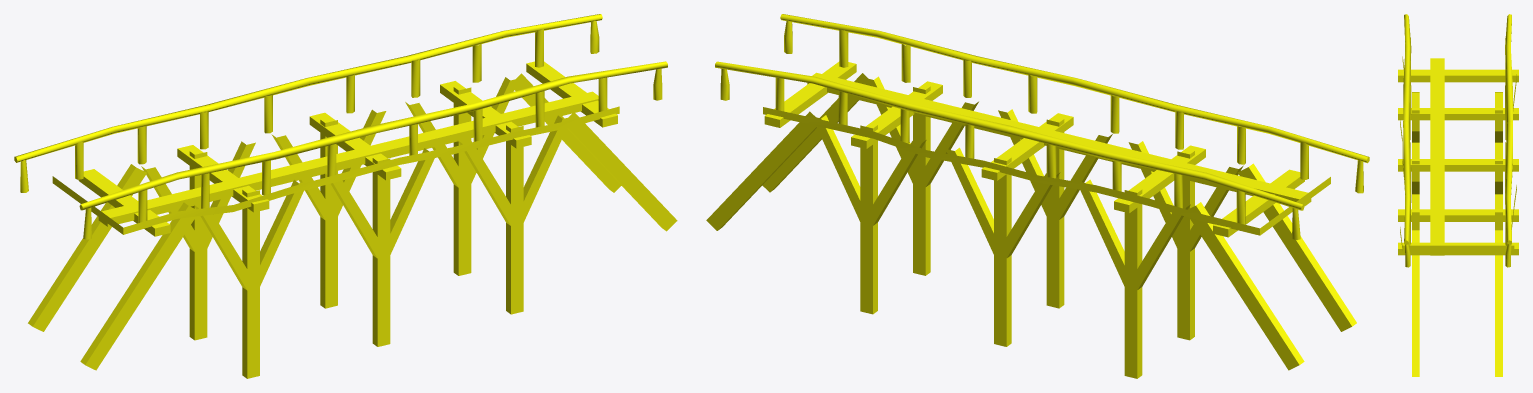
3 renders of one model, left to right at view 1: azimuth 30°, elevation 25°; view 2: azimuth 150°, elevation 25°; view 3: azimuth 270°, elevation 25°, orthographic. The views are drawn at different scales.
Visible parts, largest first — view 1: Object04; view 2: Object04; view 3: Object04.
Part boxes in pixels (x1,y1,x2,y2): Object04: (14,14,677,378); Object04: (706,14,1369,378); Object04: (1398,14,1518,376).
Bounding box in the file's own units: 23.79 × 8.56 × 5.24.
1 material, 1 textured.
